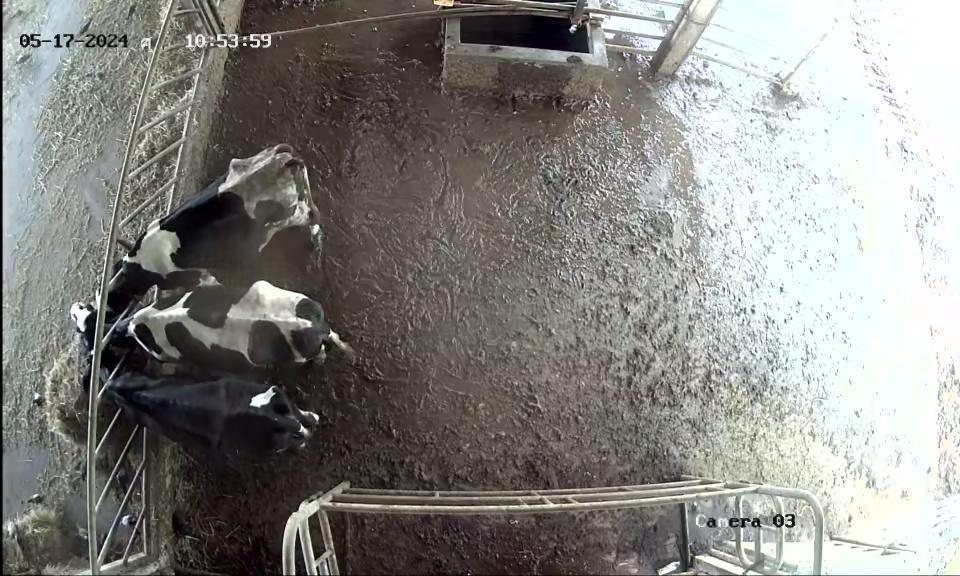eat: (69, 257, 172, 312), (66, 363, 159, 421), (72, 314, 176, 358)
